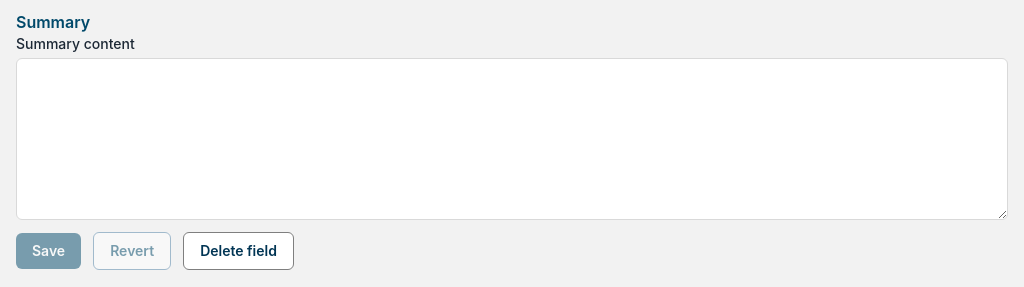
Test case: ReportFieldCard › shows a saving state while the request is in flight
Type "x" into the text box labelled "Summary content" at point(512, 139), box [16,58,1008,220]
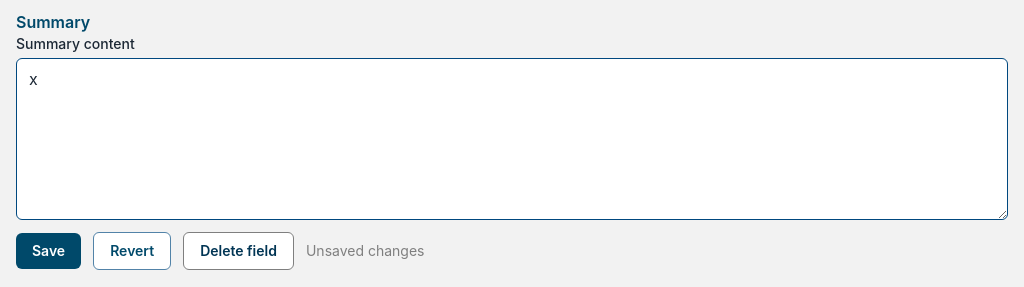
Click the button "Save" at point(49, 251), box [16,233,81,269]
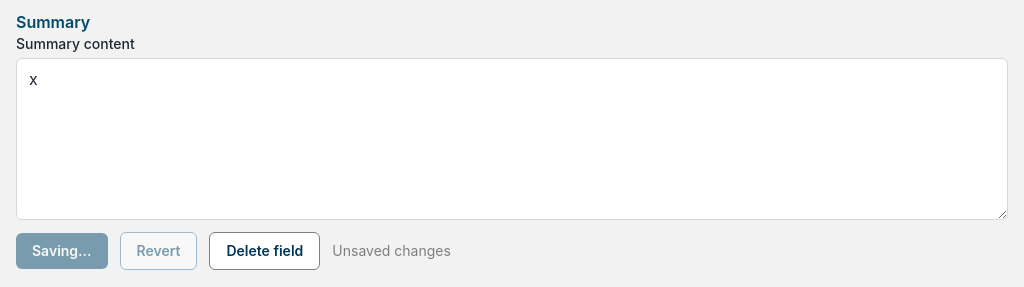
Result: the button "Saving..." is disabled at [16,233,108,269]
